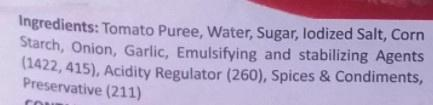ingredients: (13, 5, 429, 96)
